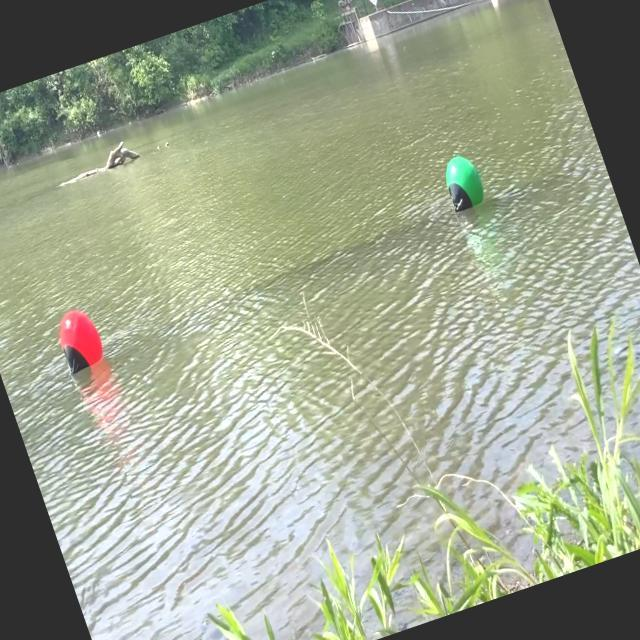buoy: (51, 306, 108, 376), (436, 148, 488, 214)
